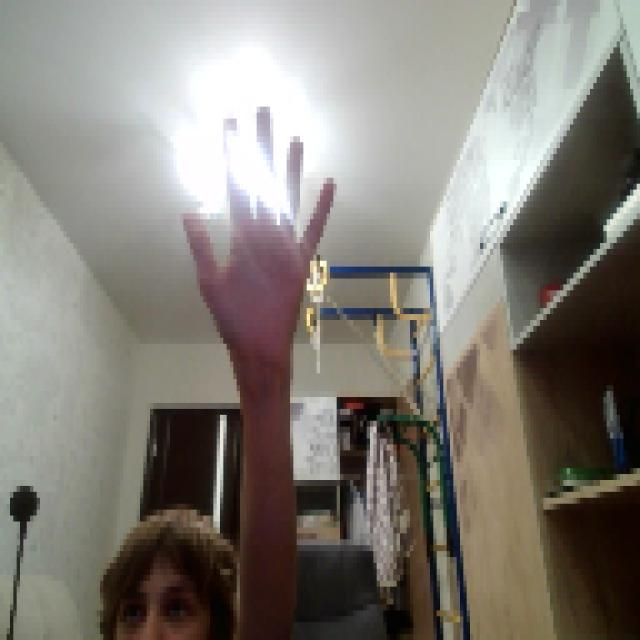hand: (177, 101, 330, 367)
